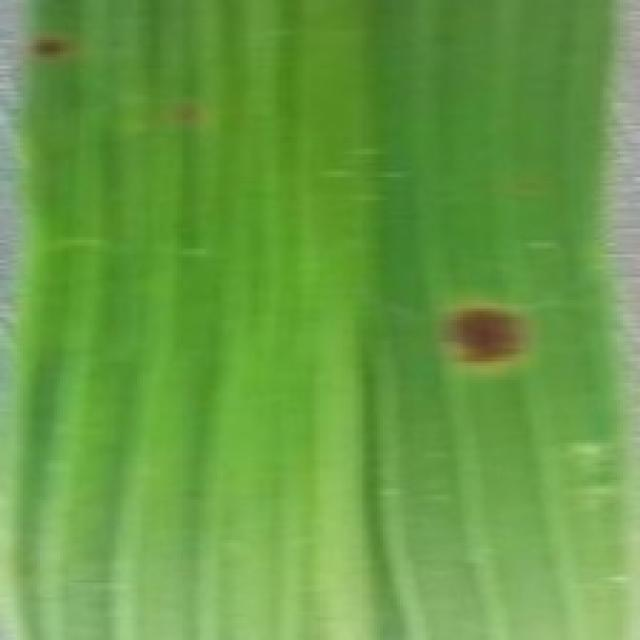Rice___Brown_Spot: (0, 1, 637, 637)
